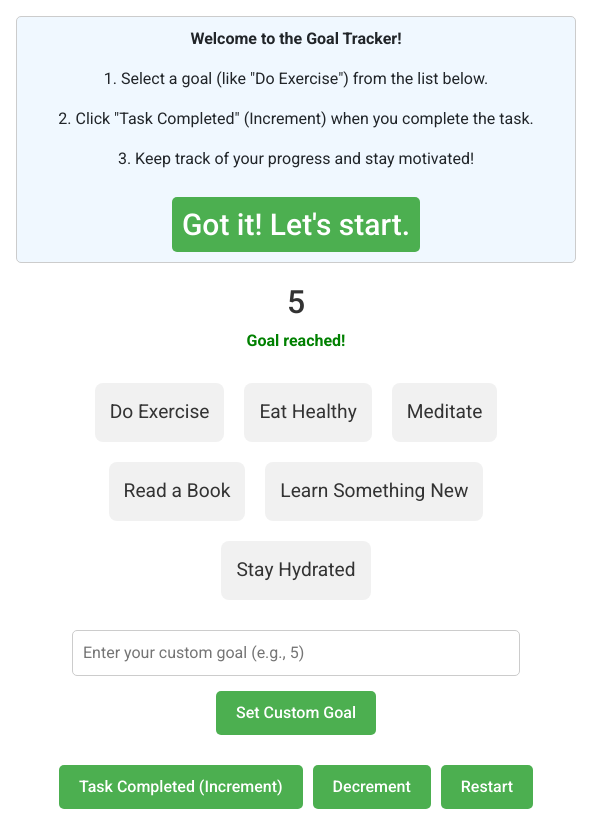
Test case: Counter › decrements the count when the decrement button is clicked
This screenshot has width=593, height=826.
What coordinates should you click on to do the following:
click the button with test id "decrement"
I would click on:
 (372, 787)
Its box is left=313, top=765, right=431, bottom=809.
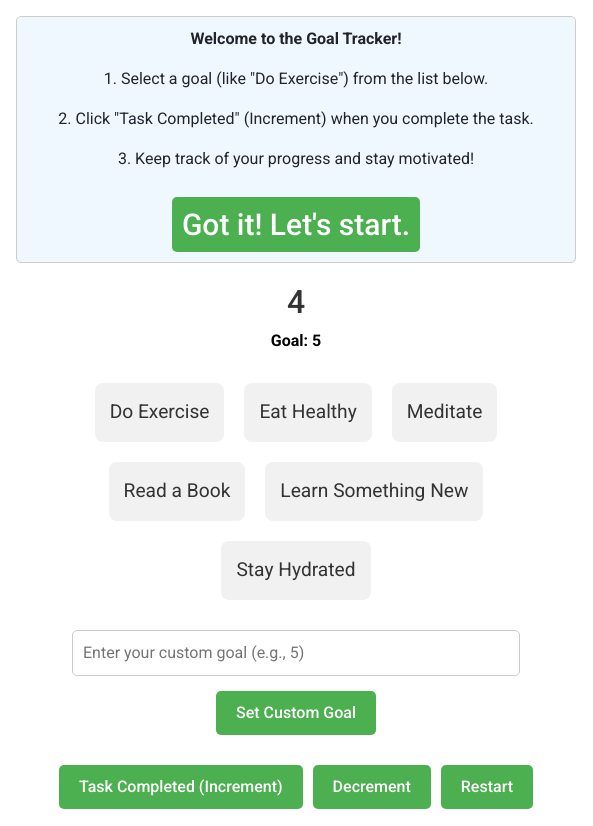
Expected: the heading "4" is shown, left=287, top=283, right=305, bottom=321
